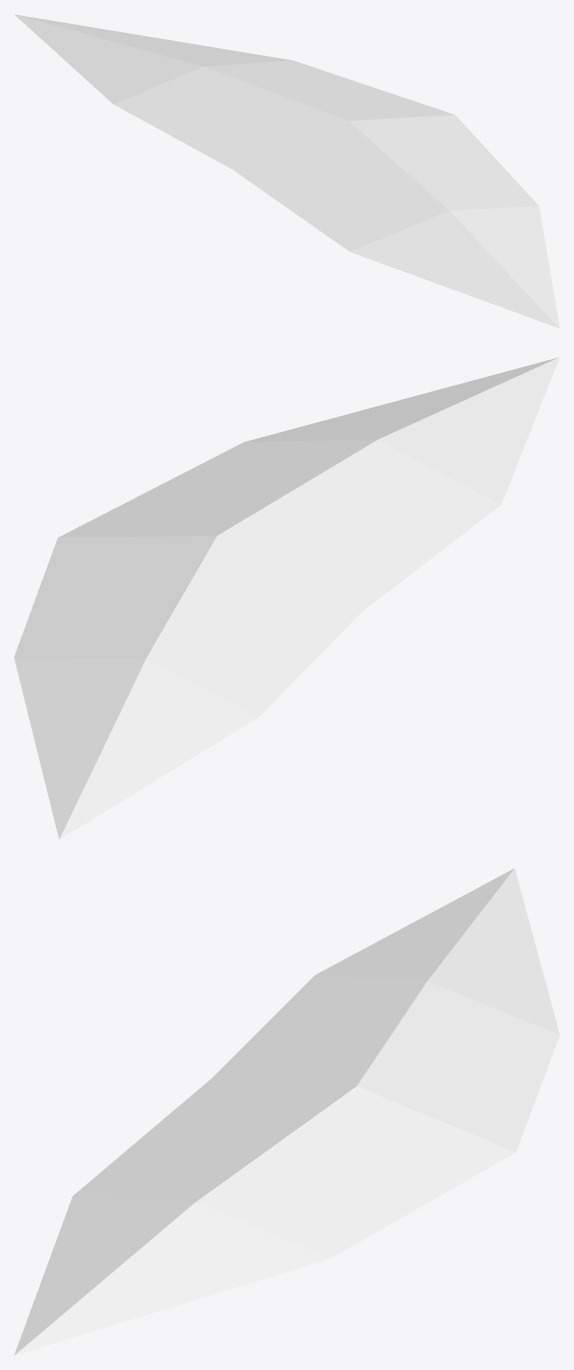
The model's file is Palm_Leave_OneSided_Snow_03.fbx.
3 renders of one model, top to bottom at view 1: azimuth 30°, elevation 25°; view 2: azimuth 150°, elevation 25°; view 3: azimuth 330°, elevation 25°, orthographic. The views are drawn at different scales.
Visible parts, largest first — view 1: Palm_Leave_OneSided_Snow_03; view 2: Palm_Leave_OneSided_Snow_03; view 3: Palm_Leave_OneSided_Snow_03.
Boxes of the visible parts, box(x1,y1,x2,y2) form: Palm_Leave_OneSided_Snow_03: box(14, 14, 559, 328); Palm_Leave_OneSided_Snow_03: box(14, 357, 559, 839); Palm_Leave_OneSided_Snow_03: box(14, 868, 559, 1355).
Bounding box in the file's own units: 88.19 × 11.47 × 285.
